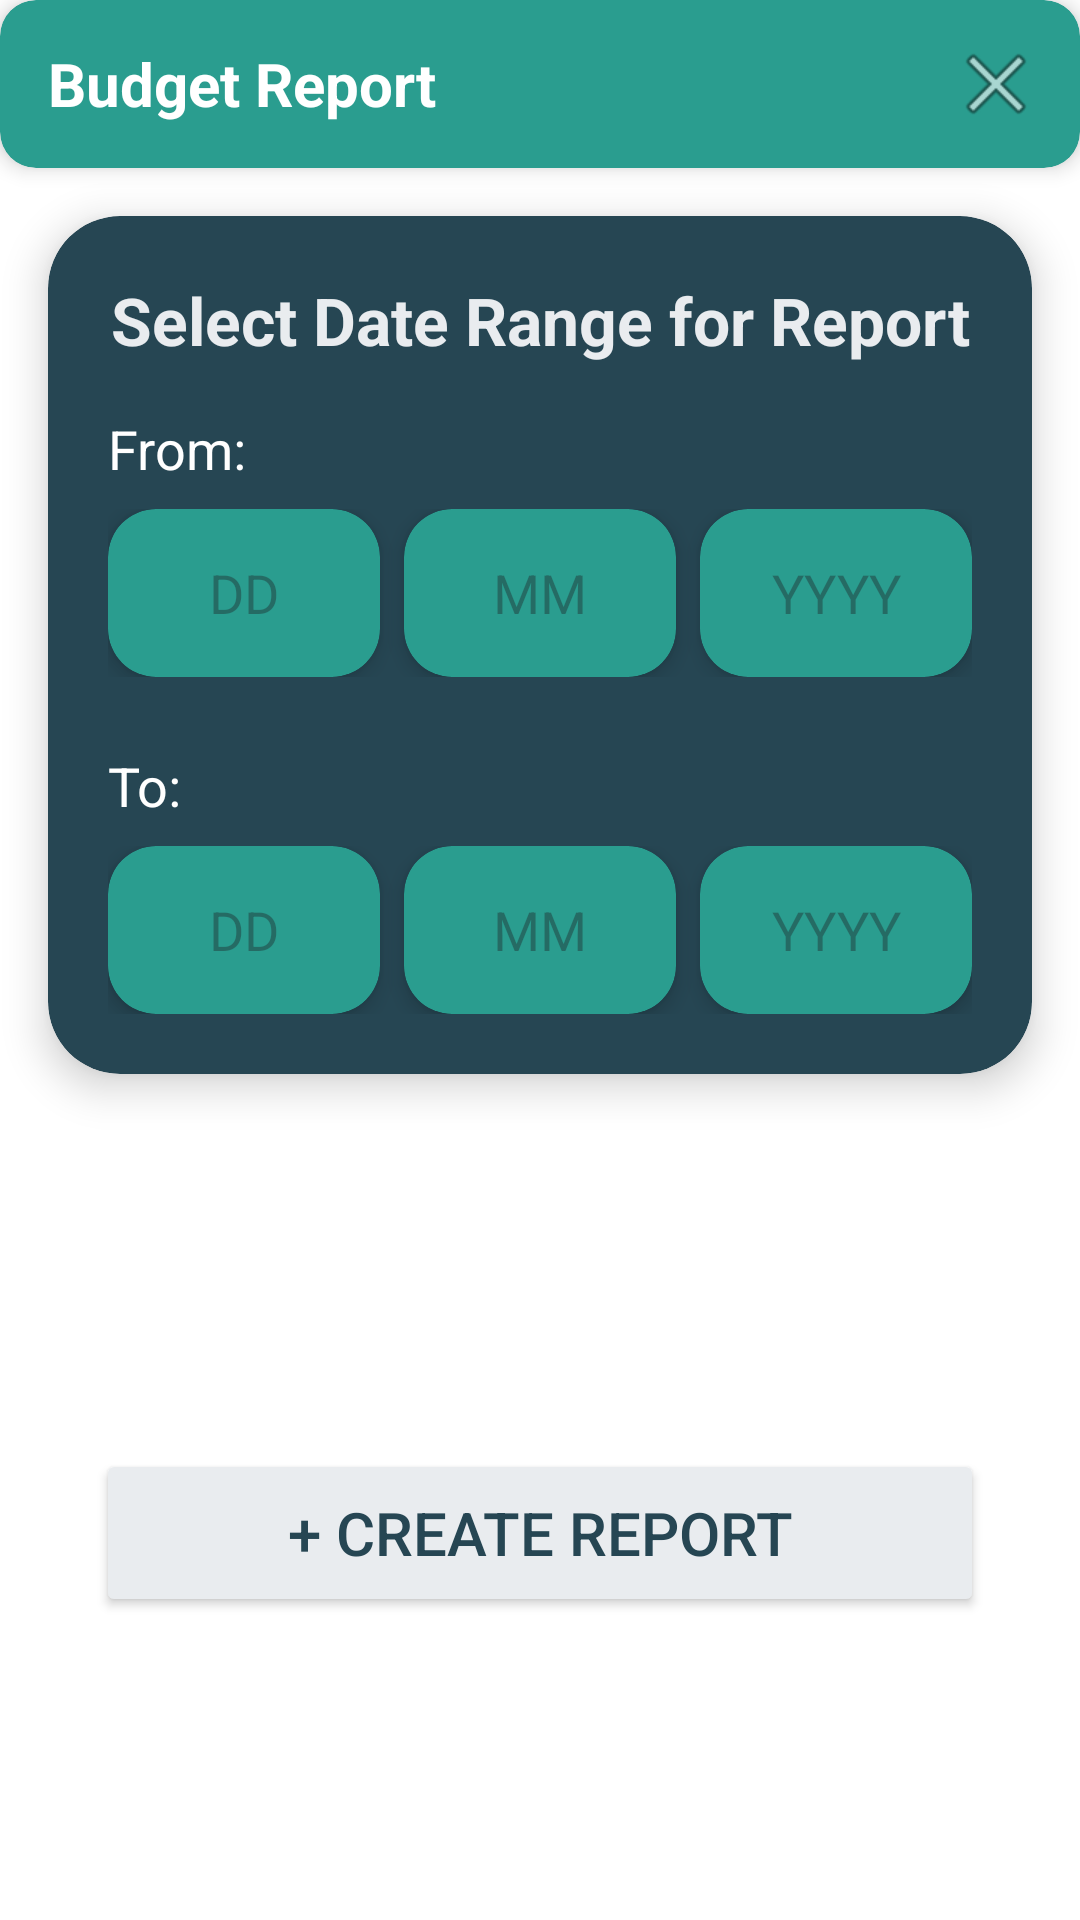

Screen size 1080×1920. Icon name, then its center in pixels as (x,y):
Exit: (996,84)
